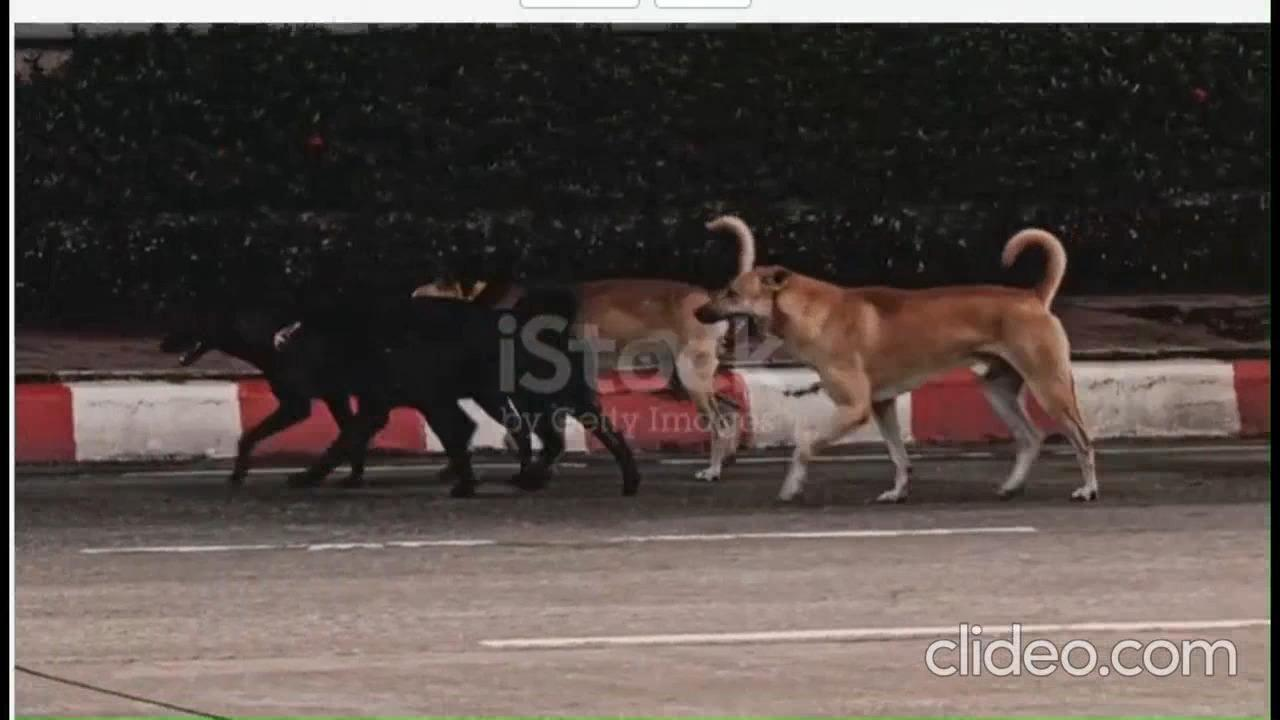dog: (691, 227, 1084, 515), (251, 241, 644, 505), (159, 274, 517, 496)
